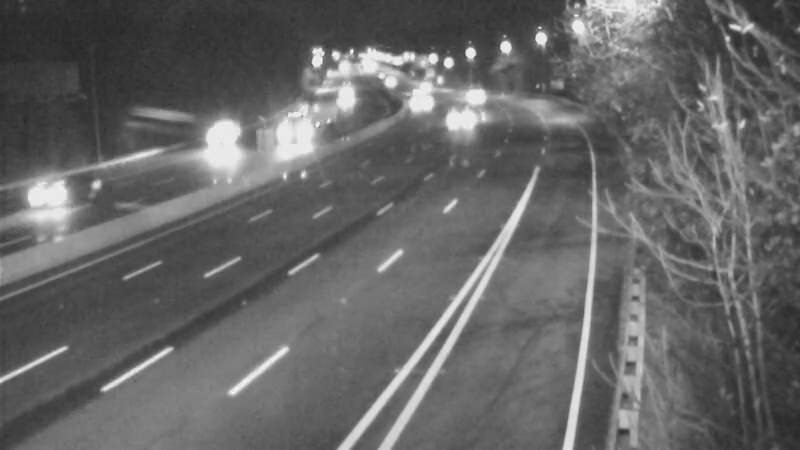vehicle: (15, 155, 95, 235), (361, 56, 411, 106), (451, 75, 501, 125), (396, 79, 446, 129), (427, 95, 477, 145), (197, 117, 247, 167), (273, 108, 323, 158)
